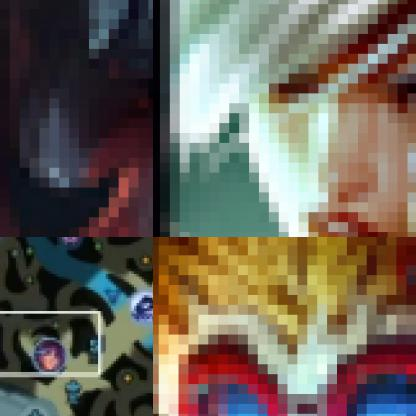Aatrox: (0, 0, 152, 236)
Heimerdinger: (153, 237, 415, 415)
Lillia: (31, 338, 68, 376)
Riven: (153, 0, 415, 236)
Xerath: (127, 290, 152, 327)
